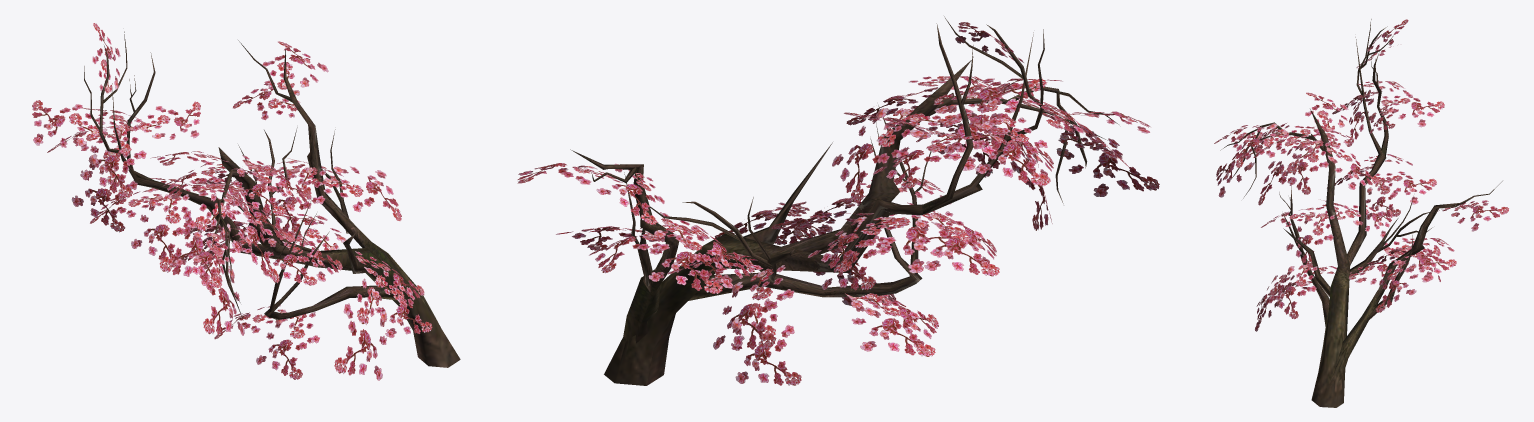
File: S_Tree_Red038.FBX
3 views of the same model, side by side, from view 1: azimuth 30°, elevation 25°; view 2: azimuth 150°, elevation 25°; view 3: azimuth 270°, elevation 25° (orthographic). The views are drawn at different scales.
Visible parts, largest first — view 1: S_Tree_Red038; view 2: S_Tree_Red038; view 3: S_Tree_Red038.
Boxes of the visible parts, bbox=[...] form: S_Tree_Red038: bbox=[32, 23, 460, 380]; S_Tree_Red038: bbox=[517, 16, 1159, 385]; S_Tree_Red038: bbox=[1214, 19, 1508, 407].
Size of the model in its own units: 620 by 543 by 552.
